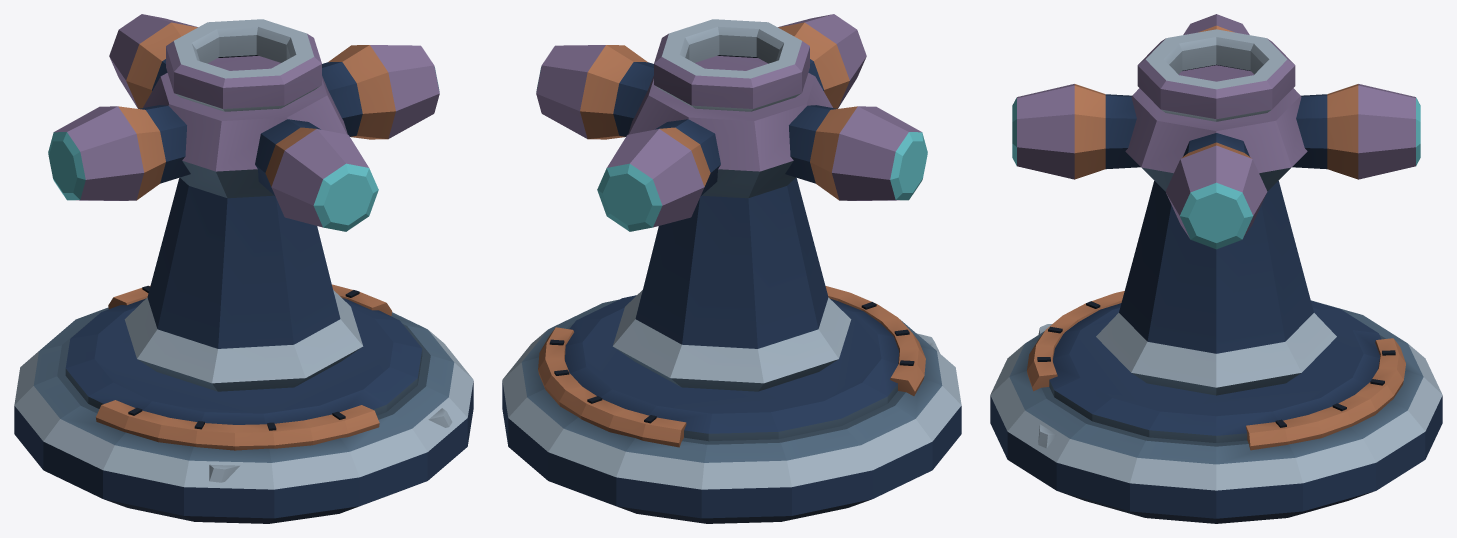
The model's file is complementor.glb.
3 renders of one model, left to right at view 1: azimuth 30°, elevation 25°; view 2: azimuth 150°, elevation 25°; view 3: azimuth 270°, elevation 25°, orthographic. The views are drawn at different scales.
Parts seen in each view (by area): view 1: complementor; view 2: complementor; view 3: complementor.
Part boxes in pixels (x1,y1,x2,y2): complementor: [14, 14, 473, 523]; complementor: [502, 14, 961, 523]; complementor: [990, 14, 1442, 523].
Bounding box in the file's own units: 1.02 × 0.96 × 1.02.
